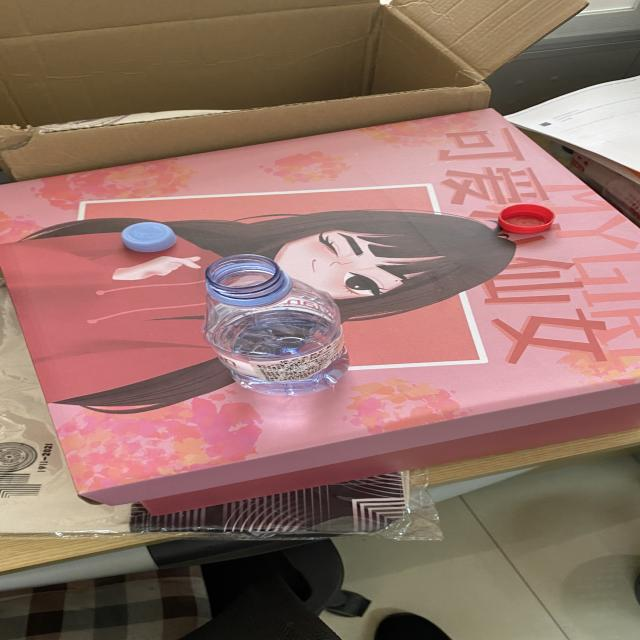Anorganik: (190, 243, 350, 404)
